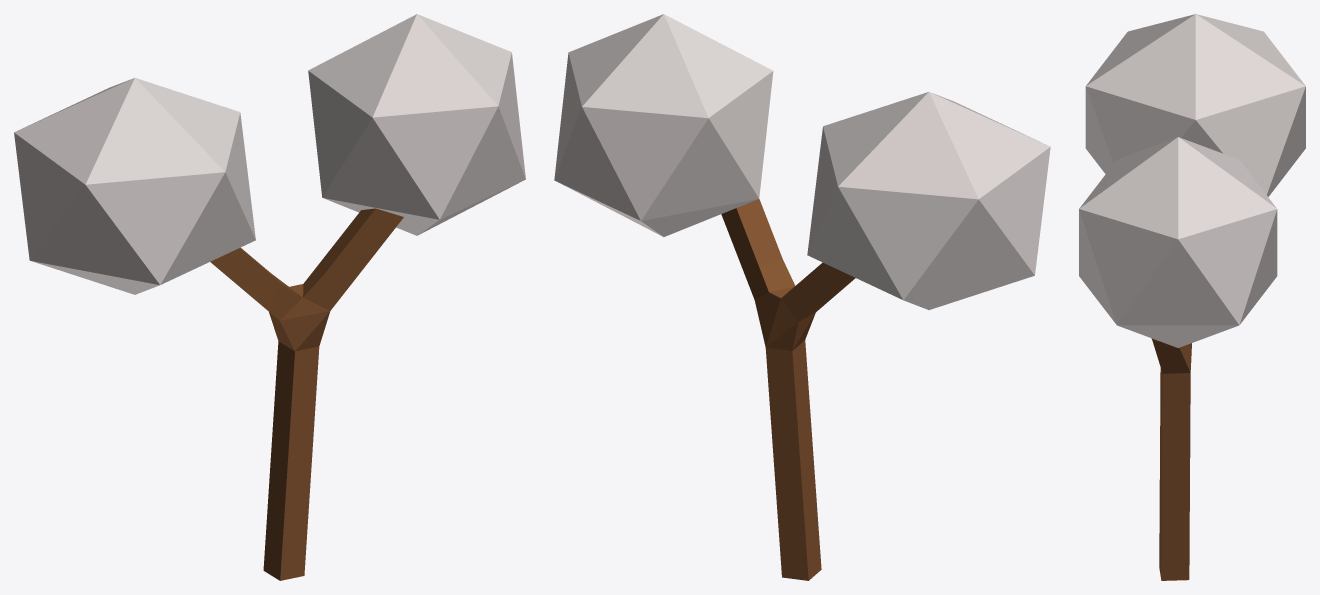
File: Snow2.fbx
The picture shows the model from 3 angles, left to right: view 1: azimuth 30°, elevation 25°; view 2: azimuth 150°, elevation 25°; view 3: azimuth 270°, elevation 25°; orthographic projection. The views are drawn at different scales.
Parts seen in each view (by area): view 1: Icosphere.015; view 2: Icosphere.015; view 3: Icosphere.015.
Part boxes in pixels (x1,y1,x2,y2): Icosphere.015: [14, 14, 525, 580]; Icosphere.015: [554, 14, 1050, 580]; Icosphere.015: [1079, 14, 1305, 580].
Size of the model in its own units: 66.3 by 70.43 by 28.93.
